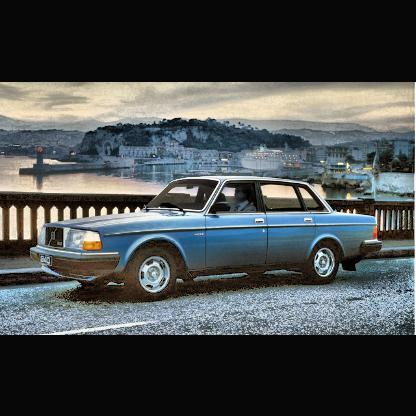Volvo 240 Sedan 1993: (30, 174, 384, 300)
